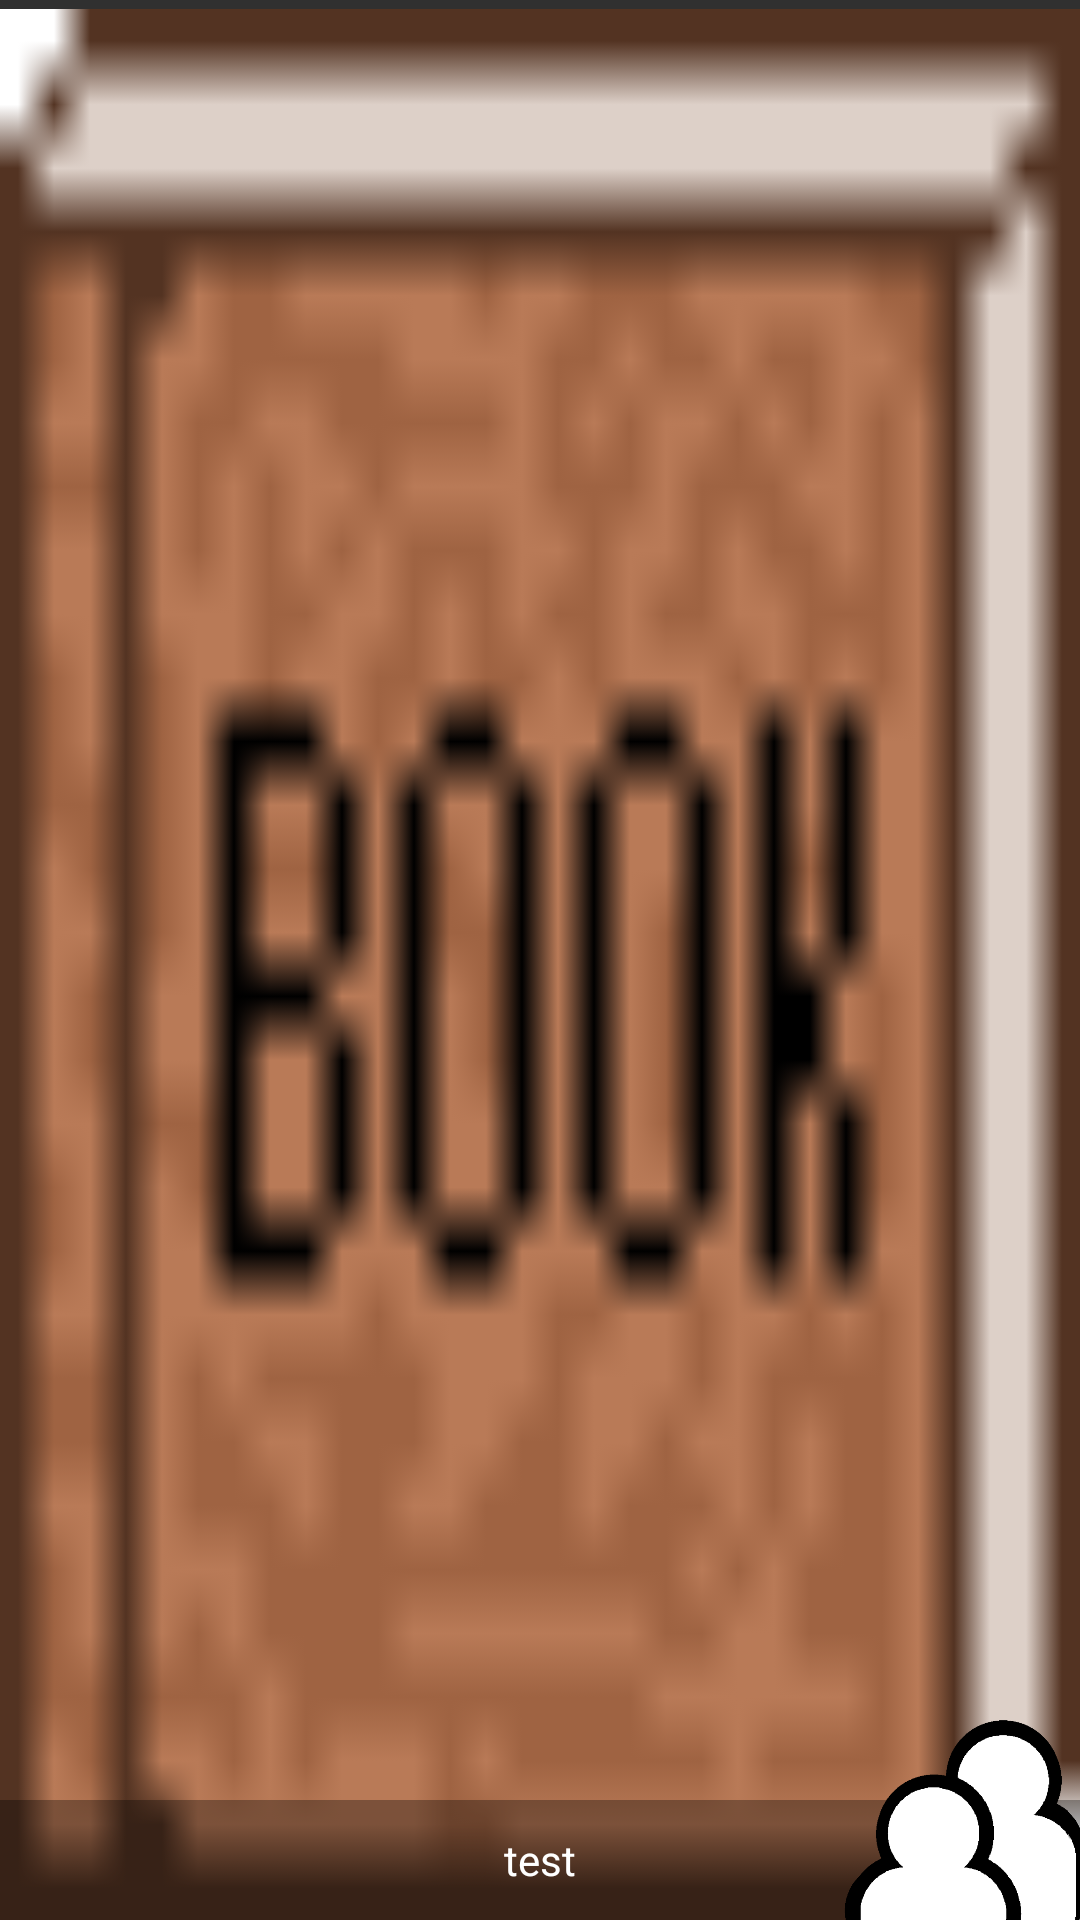

Where to tap for icons on this 1080w x 1920h app screen, as point (x, y):
friendicon: point (960, 1800)
